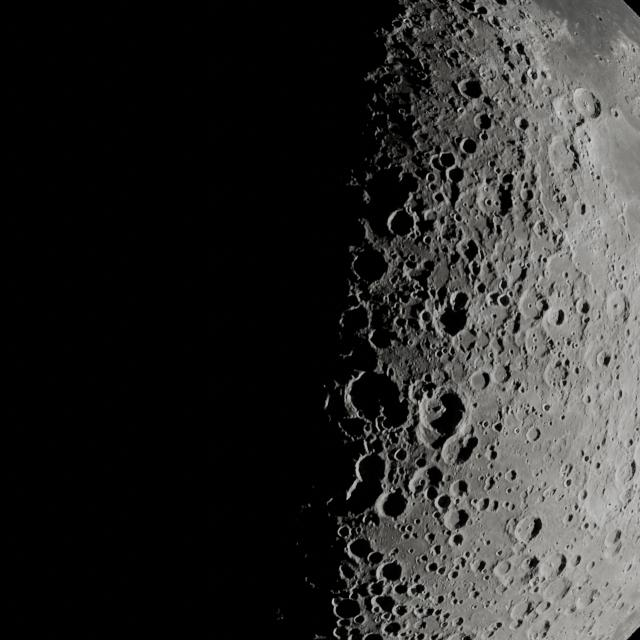crater: (344, 369, 404, 430), (422, 391, 467, 448), (336, 338, 380, 384), (544, 296, 580, 340), (350, 245, 387, 283), (351, 451, 385, 488), (437, 303, 470, 339), (338, 305, 371, 338), (516, 288, 543, 319), (513, 515, 541, 544), (605, 290, 630, 322), (386, 209, 413, 237), (368, 325, 396, 351), (441, 506, 468, 532), (613, 459, 635, 489), (543, 576, 568, 602), (346, 538, 372, 562), (538, 554, 562, 580), (378, 560, 402, 583), (457, 77, 482, 99), (509, 599, 532, 622), (604, 527, 625, 552), (408, 472, 430, 495), (468, 370, 490, 391), (449, 290, 470, 311), (449, 479, 470, 500), (373, 594, 395, 614), (471, 329, 491, 350), (458, 136, 478, 154), (473, 112, 492, 130), (438, 151, 457, 169), (493, 560, 512, 578), (339, 562, 357, 581), (470, 557, 488, 575), (477, 64, 495, 82), (435, 493, 453, 511), (596, 350, 613, 368), (366, 550, 384, 567), (413, 129, 431, 146), (447, 166, 464, 184), (368, 580, 386, 597), (362, 511, 378, 529), (445, 47, 461, 63), (474, 496, 490, 512), (525, 426, 541, 442), (533, 220, 548, 237), (382, 621, 400, 635), (513, 116, 529, 131), (542, 484, 557, 500), (409, 582, 424, 598), (520, 185, 534, 202), (393, 447, 408, 462), (497, 292, 511, 308), (452, 556, 466, 572), (392, 604, 408, 618), (337, 524, 351, 539), (486, 291, 500, 306), (450, 532, 464, 547), (484, 475, 497, 491), (468, 584, 481, 600), (424, 171, 438, 185), (526, 67, 540, 81), (569, 553, 582, 568), (563, 512, 576, 526), (430, 544, 443, 558), (424, 210, 438, 222), (560, 462, 572, 476), (506, 468, 518, 482), (426, 560, 438, 574), (498, 277, 510, 291), (579, 300, 590, 315), (518, 488, 530, 501), (475, 282, 487, 294), (452, 616, 464, 628), (492, 420, 503, 433), (418, 553, 429, 565), (478, 130, 489, 142), (425, 532, 436, 544), (582, 393, 593, 405), (514, 379, 524, 392), (615, 600, 626, 611), (578, 489, 588, 501), (401, 524, 413, 534), (542, 85, 552, 96), (453, 212, 463, 223), (568, 603, 578, 614), (616, 388, 624, 401), (482, 536, 492, 546), (536, 206, 545, 217), (618, 214, 626, 226), (456, 106, 466, 115), (564, 477, 573, 487), (573, 366, 582, 376), (588, 560, 596, 571), (481, 420, 490, 429), (542, 403, 551, 412), (505, 485, 514, 494), (616, 280, 624, 290), (627, 438, 635, 448), (513, 426, 521, 435), (496, 548, 504, 557), (413, 517, 421, 526), (612, 109, 620, 118), (594, 461, 602, 470)
